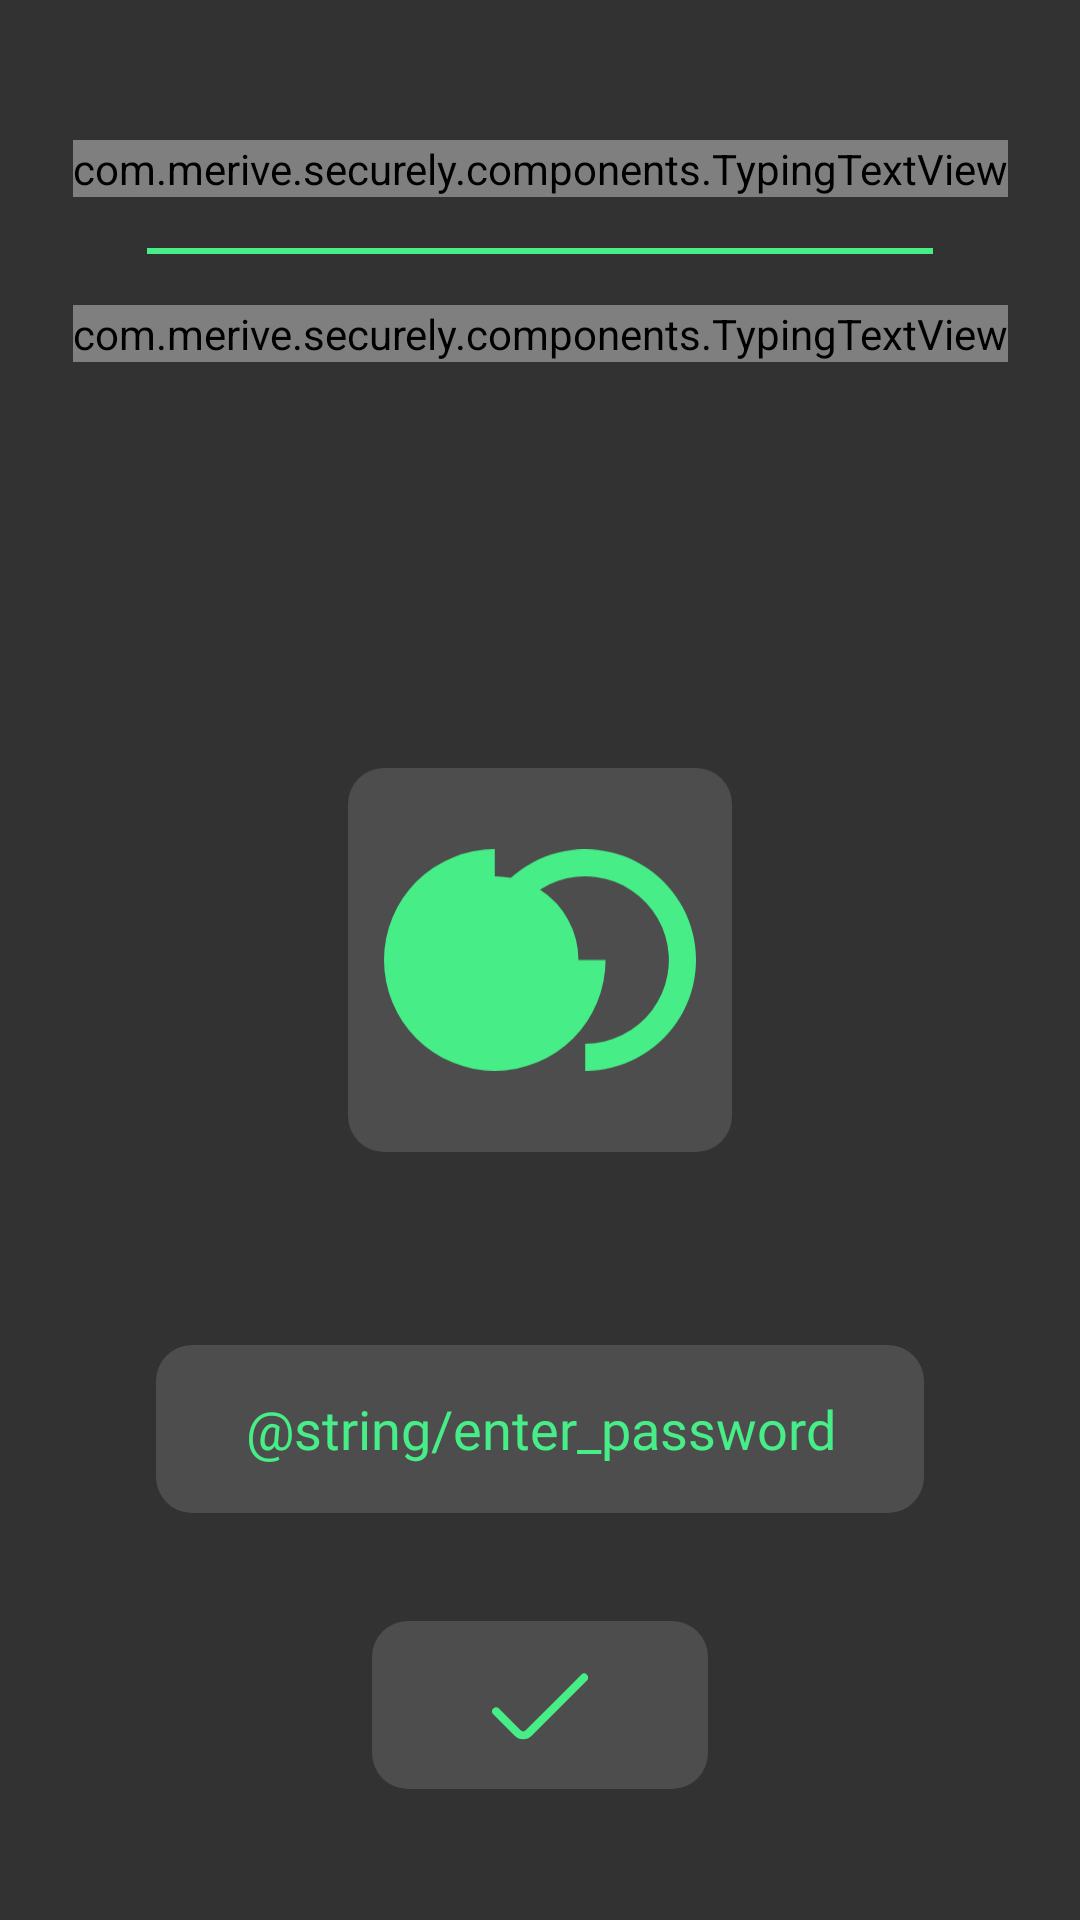

Locate icon controls on the screen. Image size 1080 x 1920, boxes as (x1, y1, x2, y2).
confirm: (372, 1621, 708, 1789)
